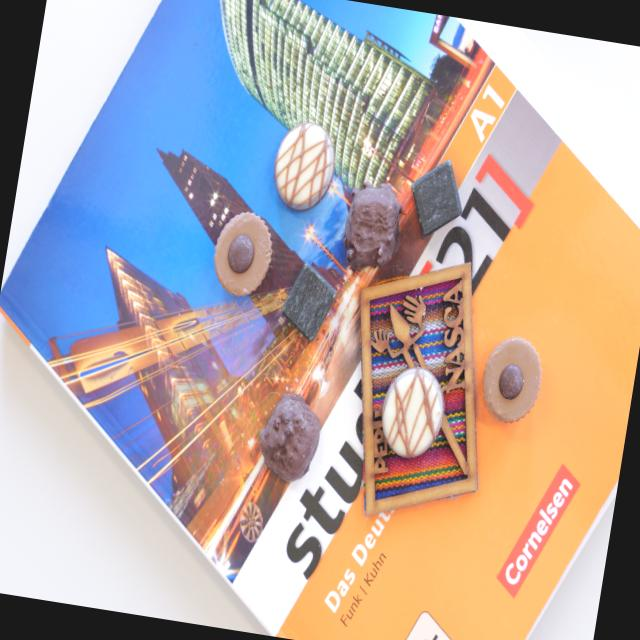Creme_brulee: (375, 363, 448, 462), (268, 118, 342, 214)
Noblesse: (478, 334, 546, 426), (210, 208, 277, 300)
Tentation_noir: (254, 390, 326, 486), (340, 181, 406, 277)
